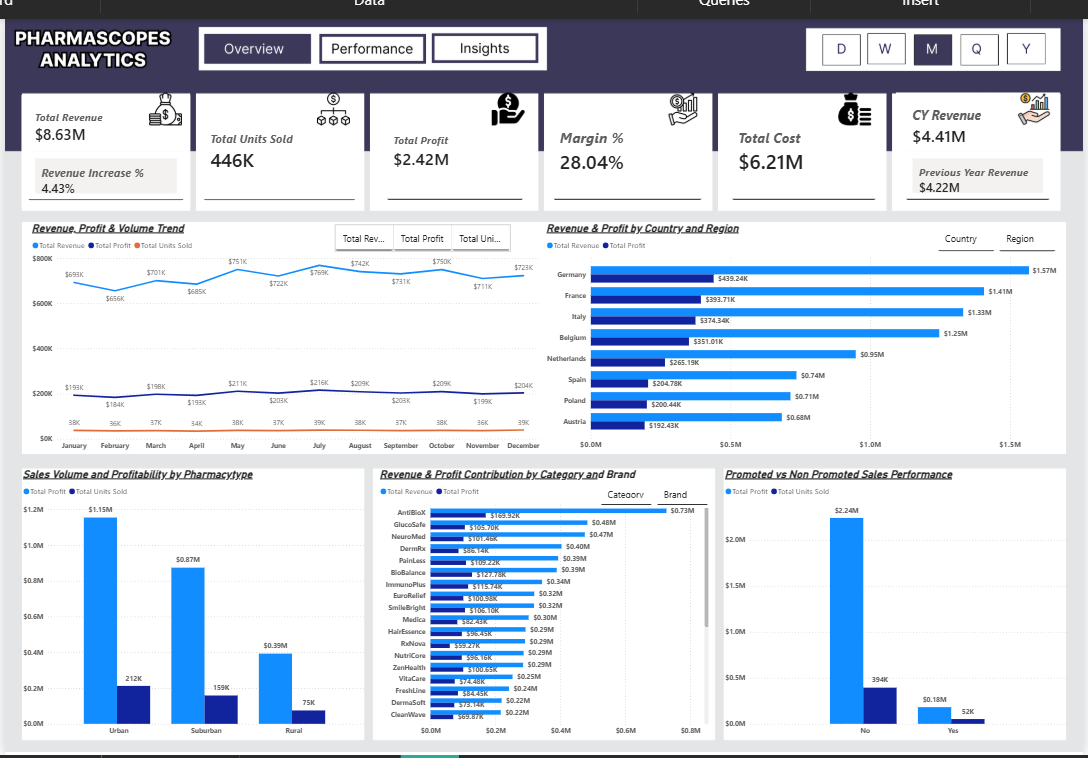

What the dashboard file says about the page in this screenshot:
{"tool":"powerbi","page":{"name":"Overview","canvas":[1920,1311],"ordinal":0},"visuals":[{"type":"cardVisual","fields":{"Data":["FactSales.Total Revenue"]},"box":[23.8,130.9,311.9,209.5],"z":0},{"type":"cardVisual","fields":{"Data":["FactSales.Total Units Sold"]},"box":[335.7,130.9,304.7,209.5],"z":1000},{"type":"cardVisual","fields":{"Data":["FactSales.Total Profit"]},"box":[662.6,130.9,277.9,208.4],"z":2000},{"type":"cardVisual","fields":{"Data":["FactSales.Margin %"]},"box":[959.2,130.9,299.3,208.4],"z":3000},{"type":"cardVisual","fields":{"Data":["FactSales.Total Cost"]},"box":[1277.2,130.9,291.2,208.4],"z":4000},{"type":"cardVisual","fields":{"Data":["FactSales.Current Year Revenue"]},"box":[1587.1,130.9,291.2,208.4],"z":5000},{"type":"lineChart","title":" Revenue, Profit & Volume Trend","fields":{"Y":["FactSales.Total Revenue","FactSales.Total Profit","FactSales.Total Units Sold"],"Category":["DimDate.MonthName"]},"box":[42.8,360.7,916.5,416.8],"z":6000},{"type":"advancedSlicerVisual","fields":{"Values":["Fact Parameter.Fact Parameter"]},"box":[582.5,360.7,323.3,58.8],"z":7000},{"type":"clusteredBarChart","title":"Revenue & Profit by Country and Region","fields":{"Category":["DimPharmacy.Country","DimPharmacy.Region"],"Y":["FactSales.Total Revenue","FactSales.Total Profit"]},"box":[959.2,360.7,937.8,416.8],"z":8000},{"type":"advancedSlicerVisual","fields":{"Values":["country and region.country and region"]},"box":[1656.6,360.7,221.8,58.8],"z":9000},{"type":"clusteredColumnChart","title":"Sales Volume and Profitability by Pharmacytype","fields":{"Category":["DimPharmacy.PharmacyType"],"Y":["FactSales.Profit","FactSales.Total Units Sold"]},"box":[26.7,798.9,617.2,486.3],"z":10000},{"type":"clusteredBarChart","title":"Revenue & Profit Contribution by Category and Brand ","fields":{"Category":["DimProduct.Category","DimProduct.Brand"],"Y":["FactSales.Total Revenue","FactSales.Profit"]},"box":[662.6,798.9,595.8,486.3],"z":11000},{"type":"advancedSlicerVisual","fields":{"Values":["categories/brands.categories/brands"]},"box":[1055.4,817.6,203.1,53.4],"z":12000},{"type":"clusteredColumnChart","title":"Promoted vs Non Promoted Sales Performance","fields":{"Y":["FactSales.Total Profit","FactSales.Total Units Sold"],"Category":["FactSales.PromoFlag"]},"box":[1277.2,798.9,619.9,486.3],"z":13000},{"type":"image","box":[235.1,130.9,101.5,58.8],"z":13001},{"type":"image","box":[852.3,130.9,88.2,58.8],"z":13002},{"type":"image","box":[1156.9,130.9,101.5,58.8],"z":13003},{"type":"image","box":[1458.9,130.9,109.5,58.8],"z":13004},{"type":"image","box":[1787.5,130.9,90.8,58.8],"z":13005},{"type":"image","box":[531.7,130.9,106.9,58.8],"z":13006}]}

Visuals, with their boxes on the page's 1920x1311 design canvas (x1, y1, x2, y2). These are canvas units, not pixel positions in the 1088x758 screenshot, which may show the page scaled, cropped or inside an application window:
cardVisual - FactSales.Total Revenue: Rect(24, 131, 336, 340)
cardVisual - FactSales.Total Units Sold: Rect(336, 131, 640, 340)
cardVisual - FactSales.Total Profit: Rect(663, 131, 940, 339)
cardVisual - FactSales.Margin %: Rect(959, 131, 1258, 339)
cardVisual - FactSales.Total Cost: Rect(1277, 131, 1568, 339)
cardVisual - FactSales.Current Year Revenue: Rect(1587, 131, 1878, 339)
" Revenue, Profit & Volume Trend" lineChart: Rect(43, 361, 959, 778)
advancedSlicerVisual - Fact Parameter.Fact Parameter: Rect(582, 361, 906, 420)
"Revenue & Profit by Country and Region" clusteredBarChart: Rect(959, 361, 1897, 778)
advancedSlicerVisual - country and region.country and region: Rect(1657, 361, 1878, 420)
"Sales Volume and Profitability by Pharmacytype" clusteredColumnChart: Rect(27, 799, 644, 1285)
"Revenue & Profit Contribution by Category and Brand " clusteredBarChart: Rect(663, 799, 1258, 1285)
advancedSlicerVisual - categories/brands.categories/brands: Rect(1055, 818, 1258, 871)
"Promoted vs Non Promoted Sales Performance" clusteredColumnChart: Rect(1277, 799, 1897, 1285)
image: Rect(235, 131, 337, 190)
image: Rect(852, 131, 940, 190)
image: Rect(1157, 131, 1258, 190)
image: Rect(1459, 131, 1568, 190)
image: Rect(1788, 131, 1878, 190)
image: Rect(532, 131, 639, 190)
